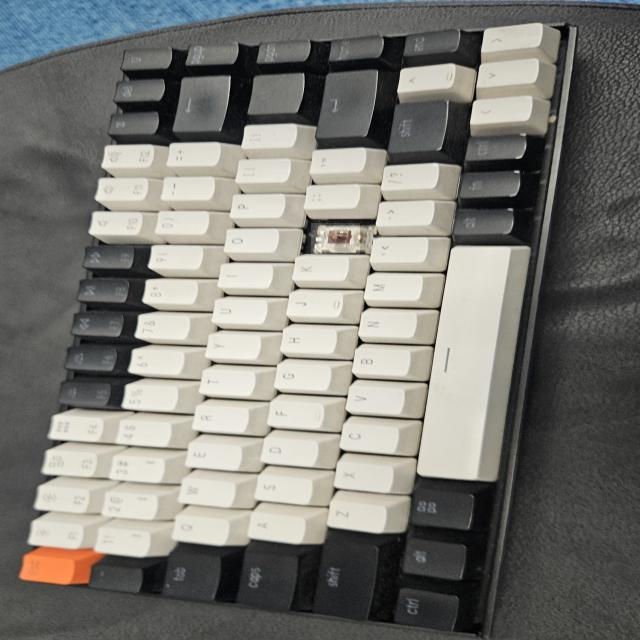C: (311, 223, 360, 254)
